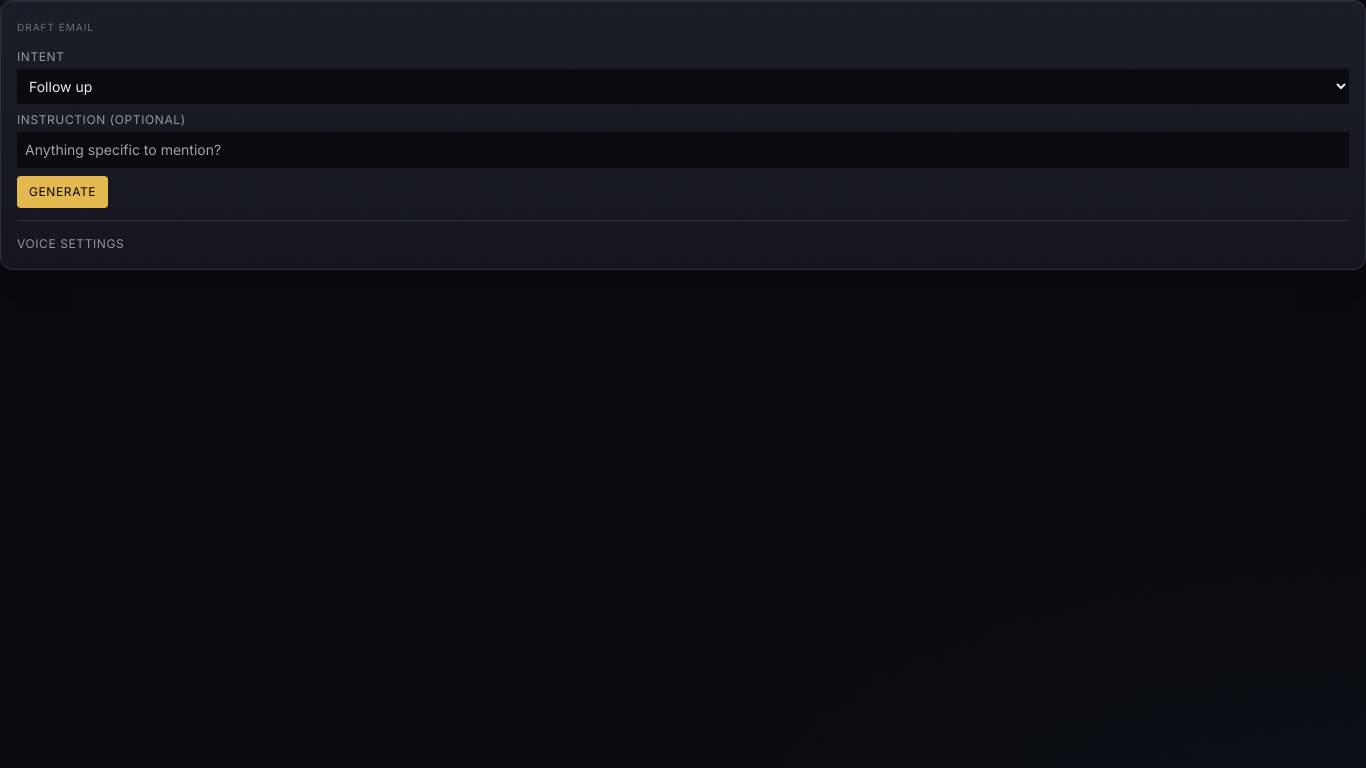
Test case: DraftEmailPanel — compose › shows the simulated-draft note when draftEmail returns simulated: true
Click the button "Generate".
click(63, 192)  # box [17,176,108,208]
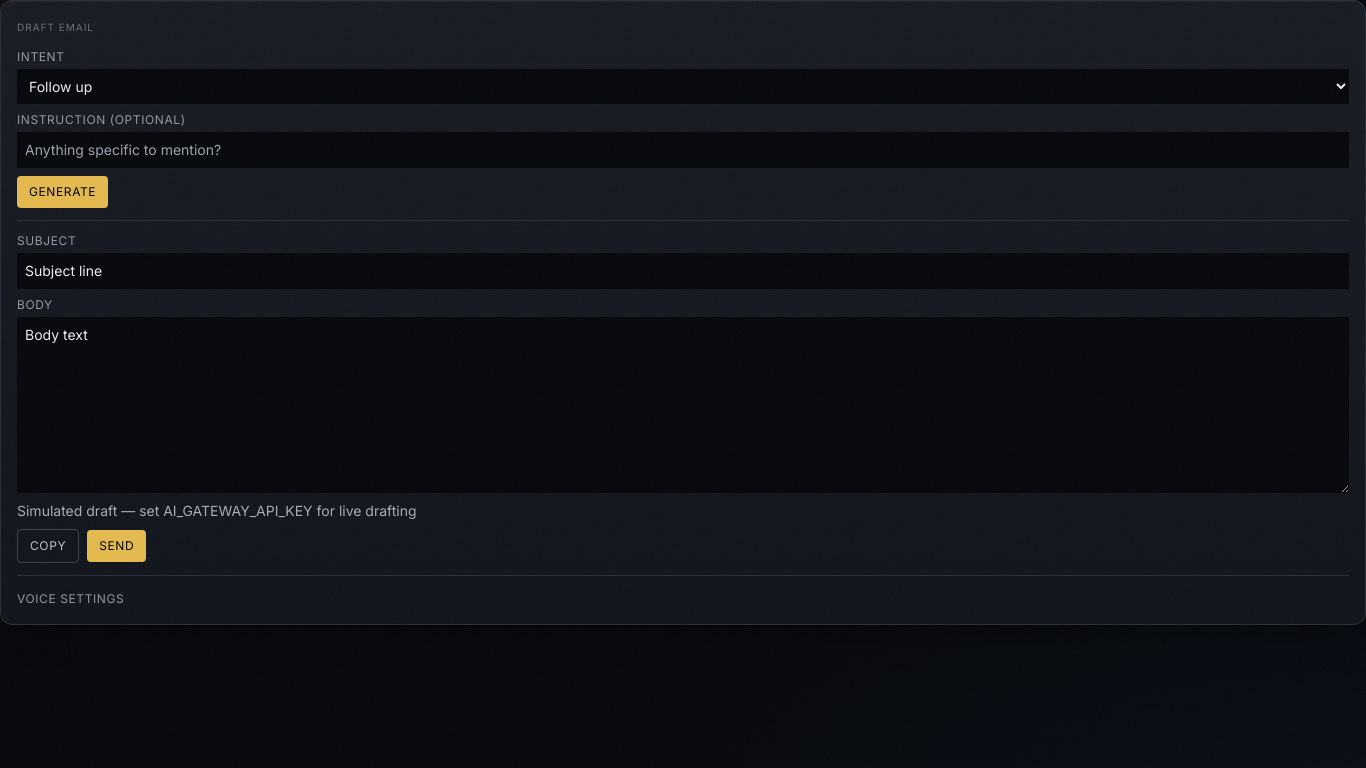
Expected: the field named "draft subject" is shown, [17,253,1349,289]
Expected: the text "Simulated draft — set AI_GATEWAY_API_KEY for live drafting" is shown, [17,502,417,519]
